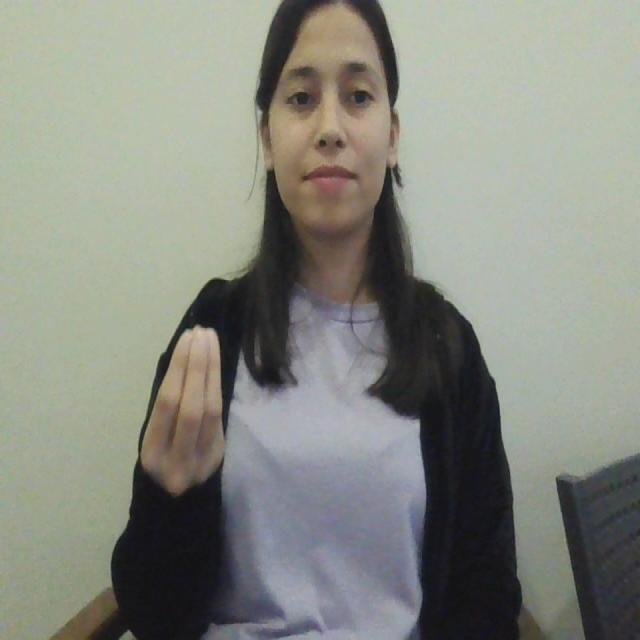iyi: (134, 319, 234, 501)
